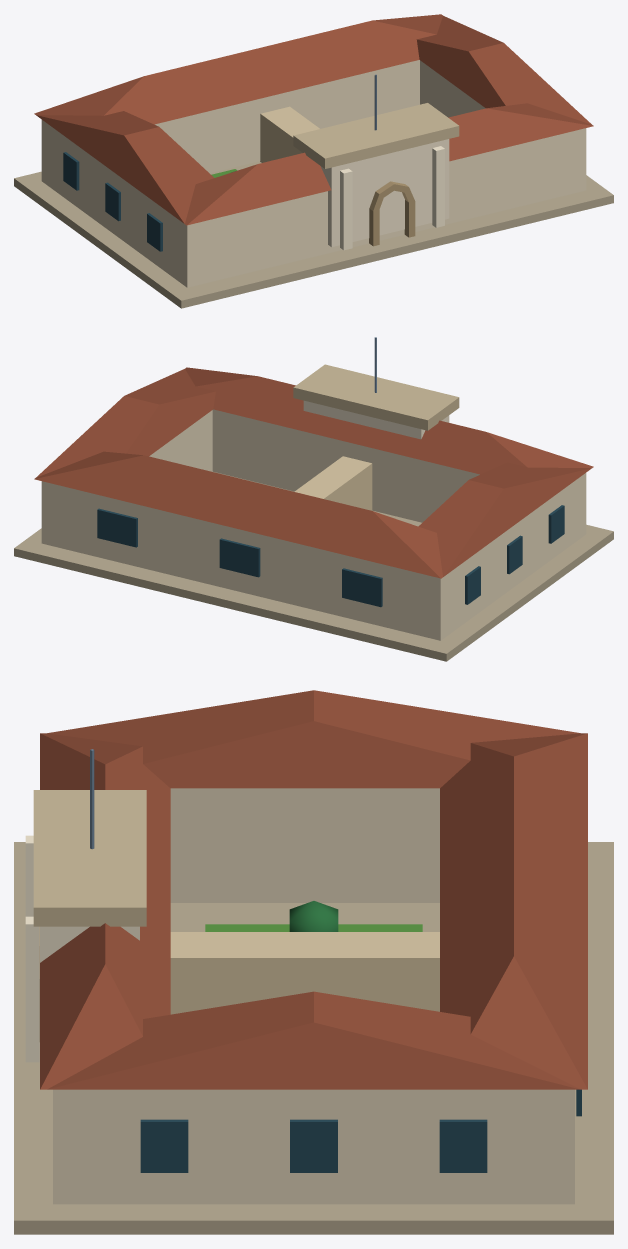
Rendered from la-moneda.glb.
3 renders of one model, top to bottom at view 1: azimuth 30°, elevation 25°; view 2: azimuth 150°, elevation 25°; view 3: azimuth 270°, elevation 25°, orthographic. The views are drawn at different scales.
Visible parts, largest first — view 1: roof_A28A6E, body_E2DBCA, base_B8B49D, body_EBE4D3, body_CDC3AF, body_DFD8C7, body_EFE9D9, detail_6B6A5B, body_C5BBA5; view 2: roof_A28A6E, body_E2DBCA, base_B8B49D, body_CDC3AF, detail_6B6A5B, body_DFD8C7, body_EBE4D3; view 3: roof_A28A6E, body_E2DBCA, base_B8B49D, body_DFD8C7, body_CDC3AF, detail_6B6A5B, body_EFE9D9, courtyard_7F996B, courtyard, body_EBE4D3.
Part boxes in pixels (box(x1,y1,x2,y2)): roof_A28A6E: box(34, 14, 593, 225); body_E2DBCA: box(41, 60, 586, 287); base_B8B49D: box(14, 161, 613, 308); body_EBE4D3: box(320, 139, 449, 247); body_CDC3AF: box(293, 103, 459, 168); body_DFD8C7: box(260, 106, 319, 162); body_EFE9D9: box(340, 146, 444, 250); detail_6B6A5B: box(63, 152, 162, 251); body_C5BBA5: box(369, 181, 415, 246); roof_A28A6E: box(34, 367, 593, 578); body_E2DBCA: box(41, 409, 586, 640); base_B8B49D: box(14, 471, 613, 661); body_CDC3AF: box(293, 364, 459, 430); detail_6B6A5B: box(97, 505, 564, 607); body_DFD8C7: box(294, 456, 372, 510); body_EBE4D3: box(303, 400, 449, 439); roof_A28A6E: box(40, 690, 587, 1089); body_E2DBCA: box(53, 788, 574, 1204); base_B8B49D: box(14, 842, 613, 1234); body_DFD8C7: box(170, 932, 439, 1014); body_CDC3AF: box(33, 790, 146, 926); detail_6B6A5B: box(140, 1089, 581, 1172); body_EFE9D9: box(25, 835, 39, 1062); courtyard_7F996B: box(205, 924, 422, 931); courtyard: box(289, 901, 338, 931); body_EBE4D3: box(40, 926, 139, 962).
Bounding box in the file's own units: 1 × 0.3641 × 0.6699.
